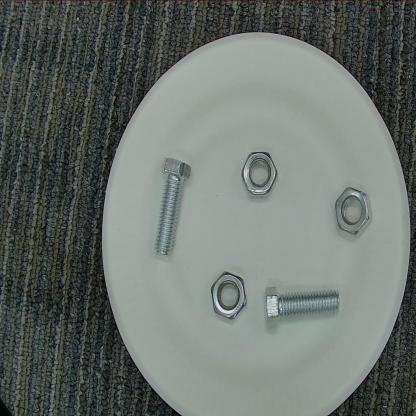FOD: (150, 153, 194, 262), (261, 283, 345, 330), (331, 183, 375, 242), (207, 267, 250, 326), (240, 147, 280, 202)
